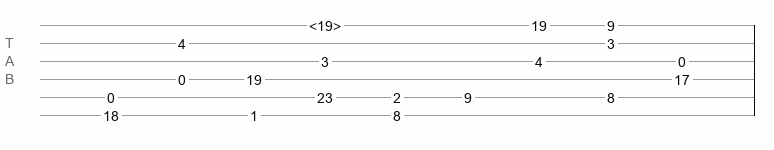0: (107, 90, 115, 100), (178, 72, 186, 82), (678, 54, 686, 64)
1: (250, 108, 258, 118)
17: (674, 72, 690, 82)
18: (103, 108, 119, 118)
19: (246, 72, 262, 82), (531, 18, 547, 28)
2: (393, 90, 401, 100)
23: (317, 90, 333, 100)
3: (321, 54, 329, 64), (607, 36, 615, 46)
4: (178, 36, 186, 46), (535, 54, 543, 64)
8: (393, 108, 401, 118), (607, 90, 615, 100)
9: (464, 90, 472, 100), (607, 18, 615, 28)
harmonic: (309, 18, 341, 28)
